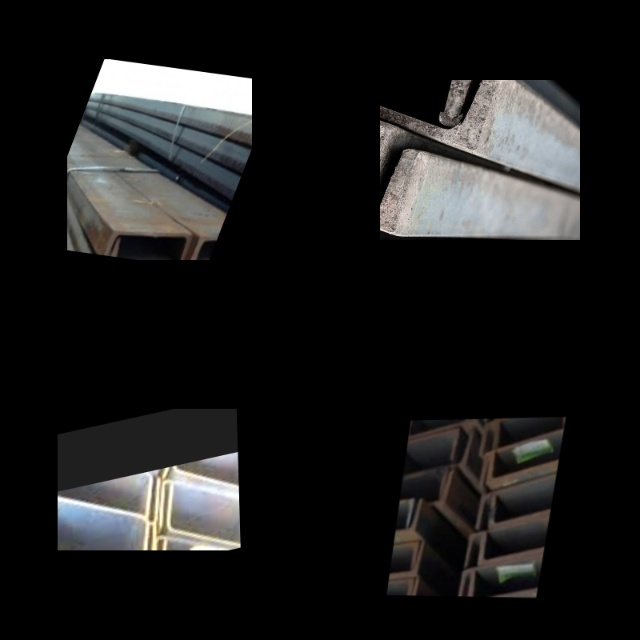Shveller: (380, 80, 499, 150), (157, 466, 241, 550), (58, 476, 149, 550), (58, 480, 153, 550), (167, 473, 241, 550), (465, 509, 551, 567), (482, 429, 564, 486), (477, 472, 557, 528), (380, 109, 415, 234), (489, 427, 564, 481), (380, 80, 478, 120), (460, 553, 543, 598), (480, 511, 550, 563), (470, 551, 544, 598), (489, 474, 556, 524), (403, 431, 474, 474), (104, 225, 191, 260), (403, 430, 458, 475), (389, 542, 423, 580), (190, 230, 220, 260), (380, 82, 387, 207)
